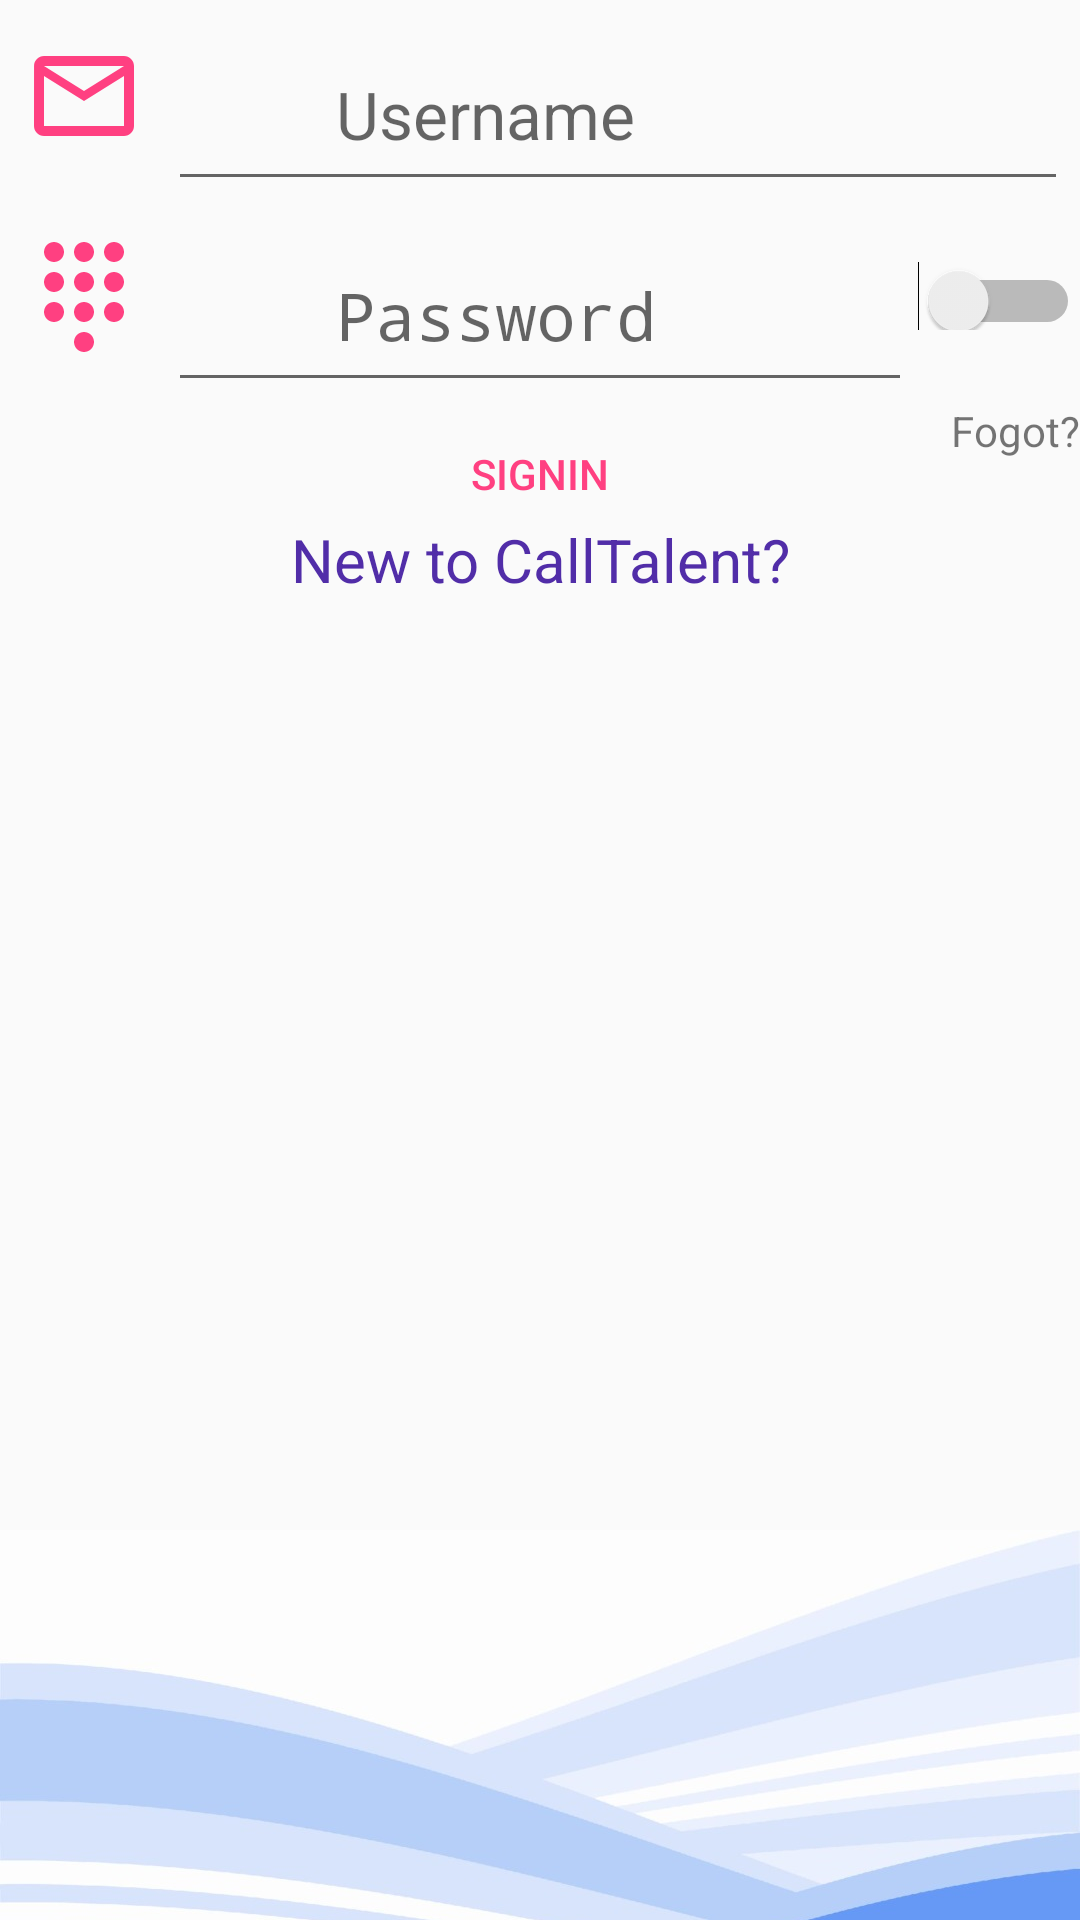

Screen size 1080 × 1920. Icon name, then its center in pixels as point (x, y):
email: point (84, 96)
